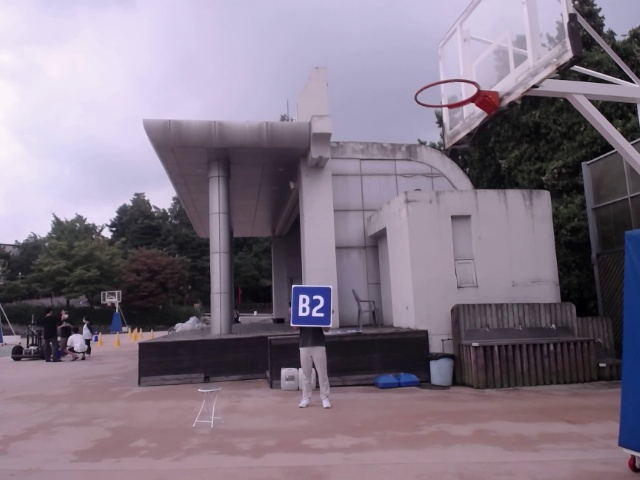delivery_b2: (290, 285, 331, 327)
